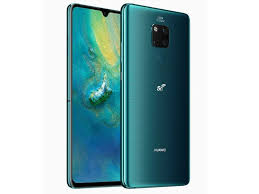huawei: (119, 1, 188, 189), (63, 2, 122, 190)
